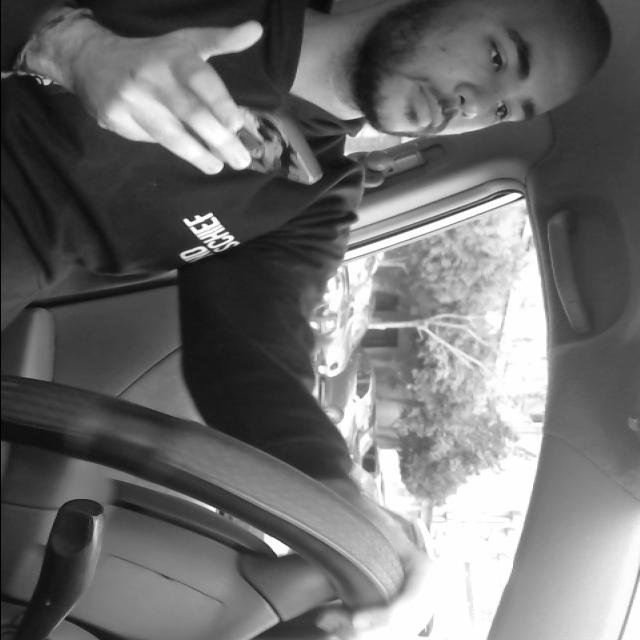mobile use: (145, 95, 333, 187)
